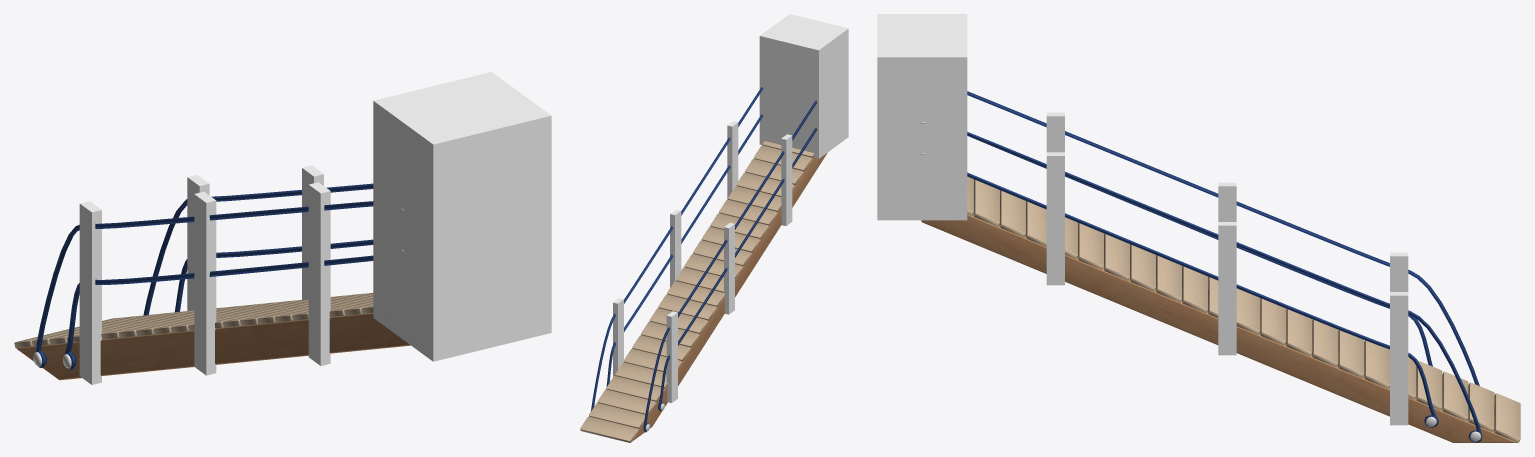
3 renders of one model, left to right at view 1: azimuth 30°, elevation 25°; view 2: azimuth 150°, elevation 25°; view 3: azimuth 270°, elevation 25°, orthographic. The views are drawn at different scales.
Visible parts, largest first — view 1: joint,0,6, Plane001, Plane052, Plane052_1, Plane052.001; view 2: Plane052.001, joint,0,6, Plane001, Plane052_1, Plane052; view 3: Plane052.001, joint,0,6, Plane052, Plane001, Plane052_1.
Boxes of the visible parts, x1,y1,x2,y2 form: joint,0,6: (373,72,551,361); Plane001: (79,165,330,384); Plane052: (16,313,410,380); Plane052_1: (35,183,373,369); Plane052.001: (14,293,373,348); Plane052.001: (580,141,814,442); joint,0,6: (759,14,848,158); Plane001: (613,121,792,403); Plane052_1: (591,87,816,432); Plane052: (631,152,827,441); Plane052.001: (967,176,1520,442); joint,0,6: (877,14,967,220); Plane052: (921,214,1517,442); Plane001: (1046,112,1408,425); Plane052_1: (967,91,1482,442).
Size of the model in its own units: 0.5779 by 2.39 by 3.58.
6 materials, 3 textured.
